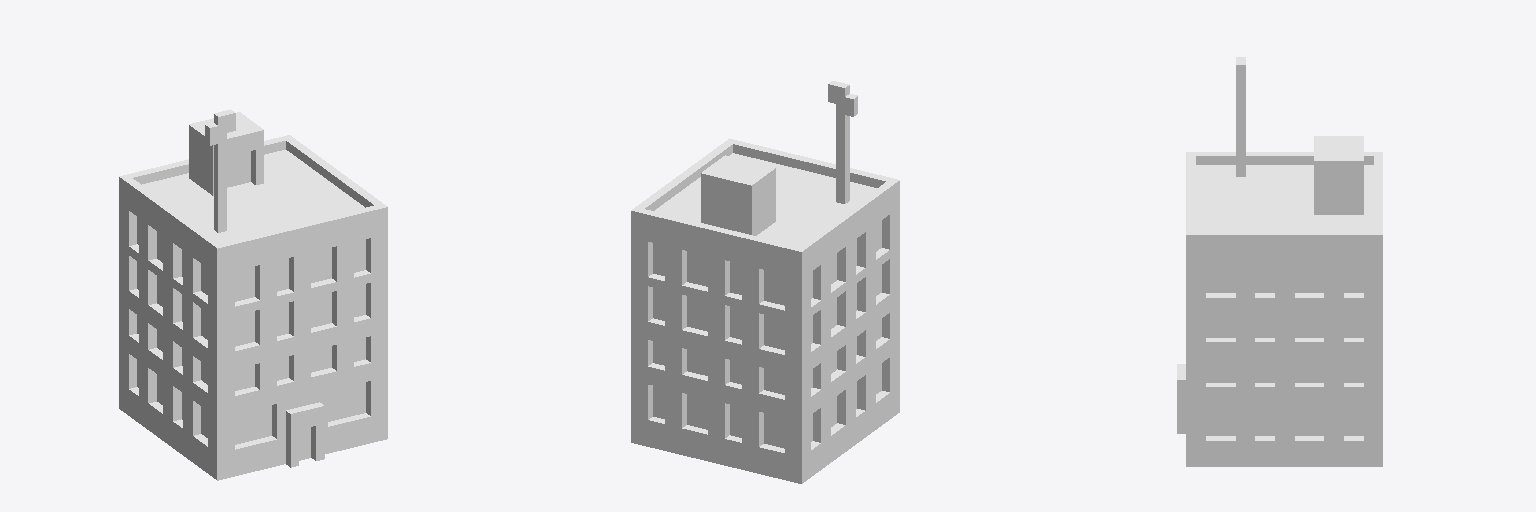
File: building2.obj
The picture shows the model from 3 angles: view 1: azimuth 30°, elevation 25°; view 2: azimuth 150°, elevation 25°; view 3: azimuth 270°, elevation 25°; orthographic projection.
Visible parts, largest first — view 1: object 1; view 2: object 1; view 3: object 1.
Part boxes in pixels (x1,y1,x2,y2): object 1: (119, 109, 387, 480); object 1: (631, 81, 899, 483); object 1: (1177, 57, 1382, 466).
Bounding box in the file's own units: 2 × 3.8 × 2.1.